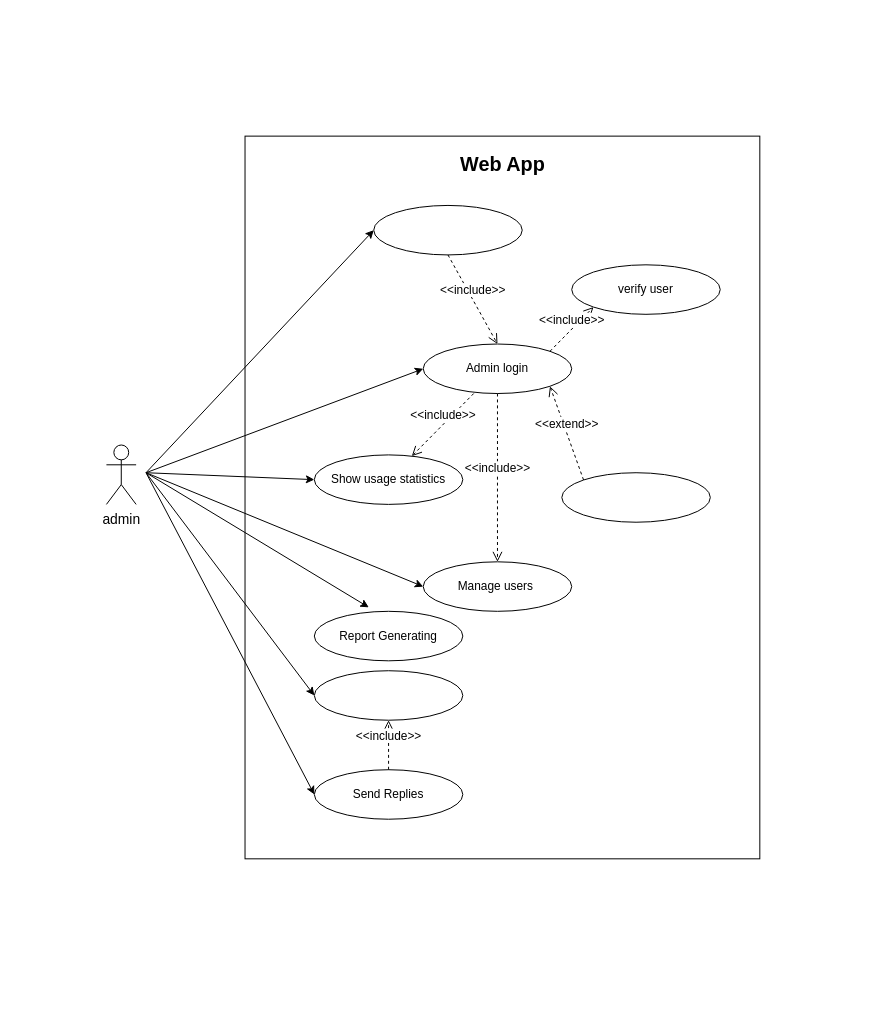
Some shapes in this 896 by 1035 pixel diagram are drawn without their labels. The centre of each missing label's shape, as x and y in pixels:
"Close Messages" belongs at (388,695).
"Display login error" belongs at (635,497).
"Register admin" belongs at (447,229).
